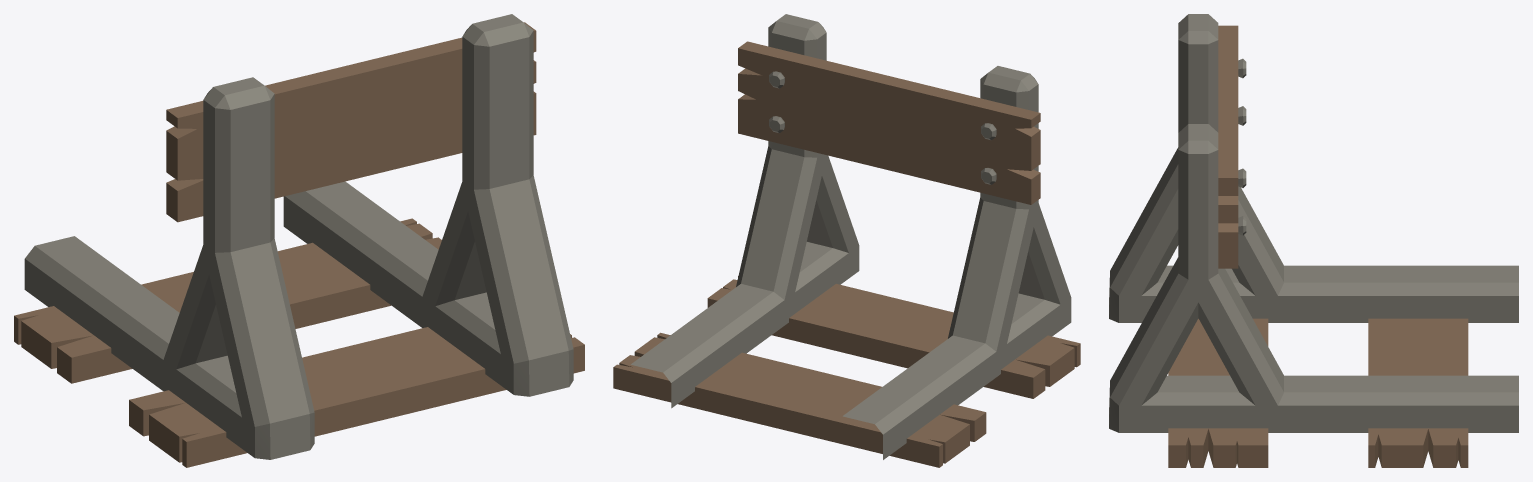
File: Cave_Prop_Railway_Bumpstop.glb
The picture shows the model from 3 angles, left to right: view 1: azimuth 30°, elevation 25°; view 2: azimuth 150°, elevation 25°; view 3: azimuth 270°, elevation 25°; orthographic projection. The views are drawn at different scales.
Visible parts, largest first — view 1: Cave_Prop_Railway_Bumpstop; view 2: Cave_Prop_Railway_Bumpstop; view 3: Cave_Prop_Railway_Bumpstop.
Boxes of the visible parts, box(x1,y1,x2,y2) form: Cave_Prop_Railway_Bumpstop: box(14, 14, 584, 467); Cave_Prop_Railway_Bumpstop: box(613, 14, 1080, 467); Cave_Prop_Railway_Bumpstop: box(1109, 14, 1518, 467).
Bounding box in the file's own units: 1 × 0.8444 × 1.02.
